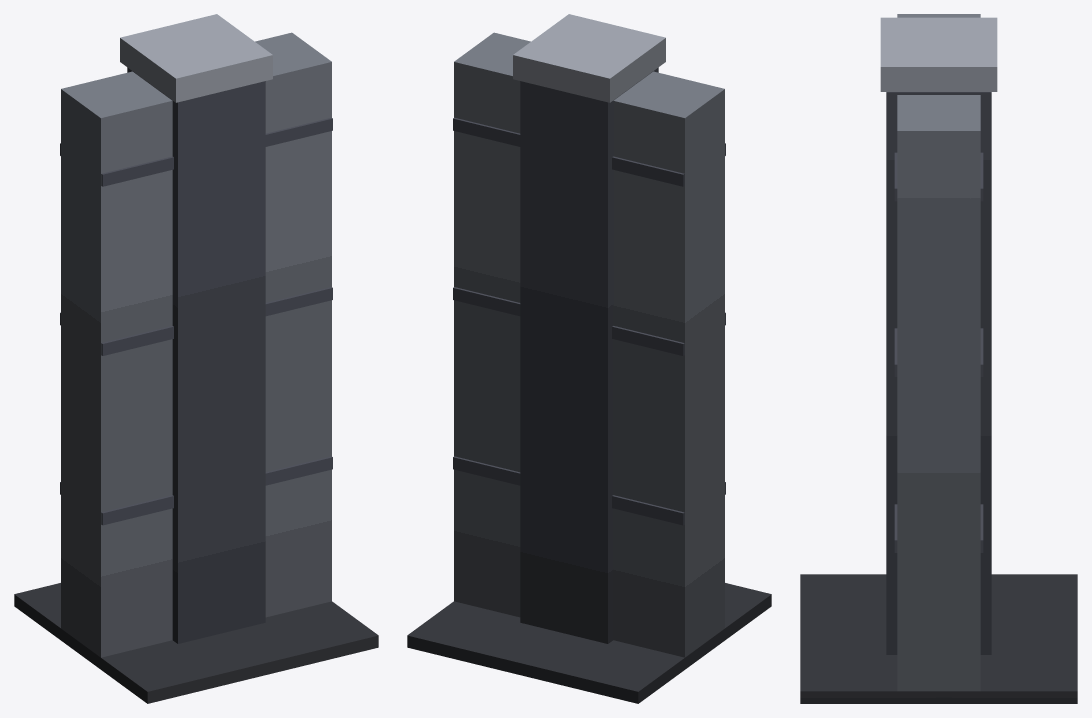
The model's file is model_45_iron_straight.glb.
3 views of the same model, side by side, from view 1: azimuth 30°, elevation 25°; view 2: azimuth 150°, elevation 25°; view 3: azimuth 270°, elevation 25° (orthographic). The views are drawn at different scales.
Bounding box in the file's own units: 1 × 2.4 × 1.
1 material, 1 textured.
